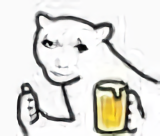dragon: (42, 36, 87, 76)
